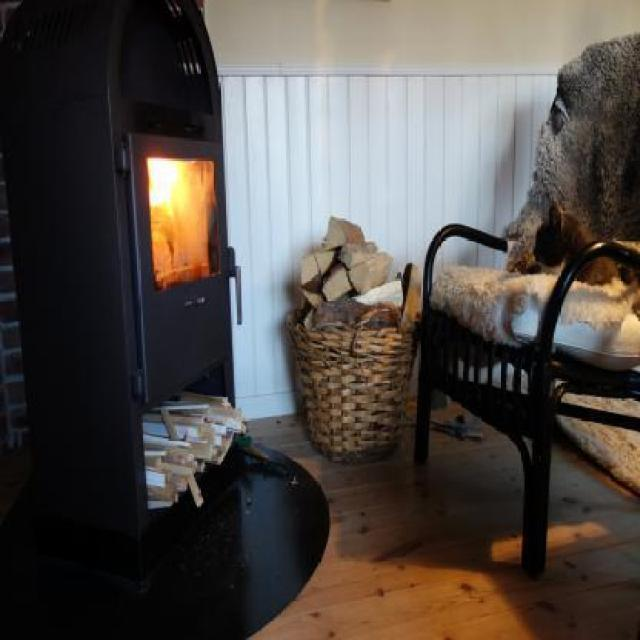Fire: (146, 153, 188, 210)
